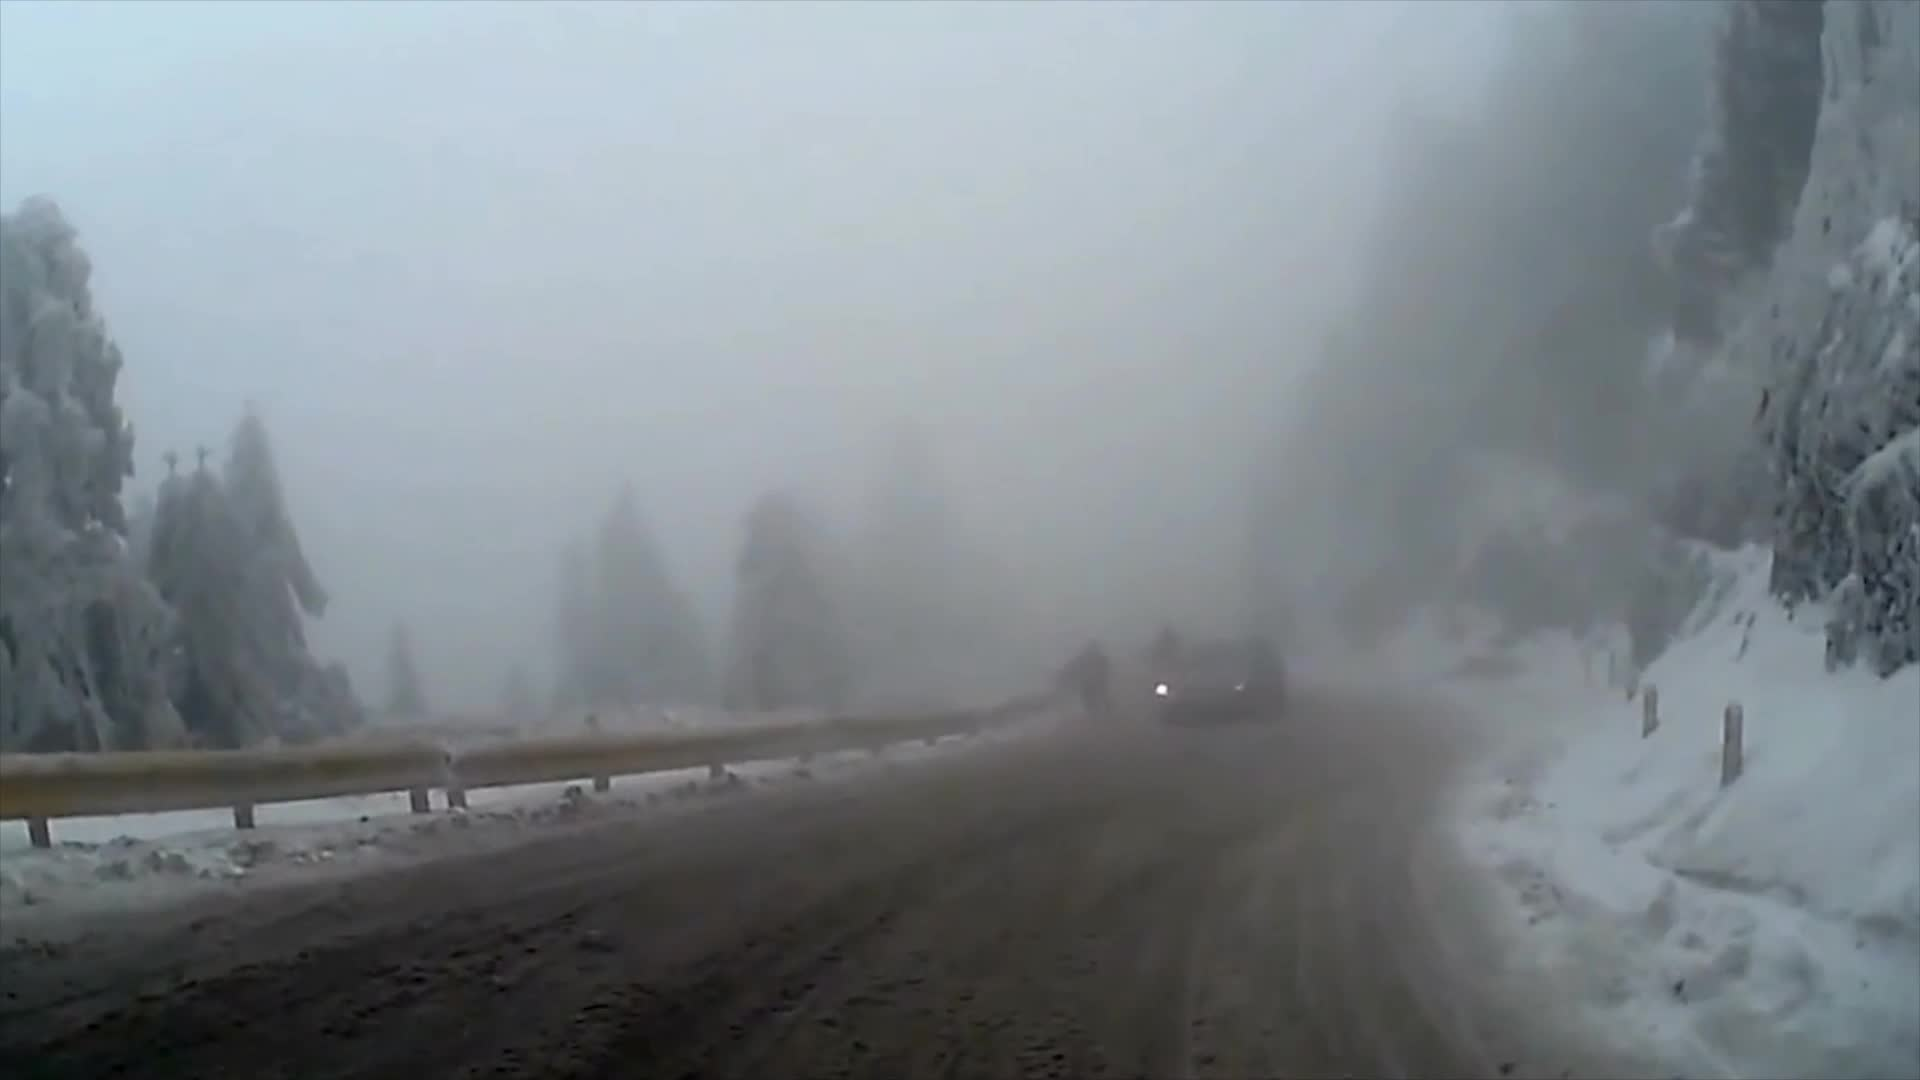vehicle: (1151, 634, 1292, 727)
